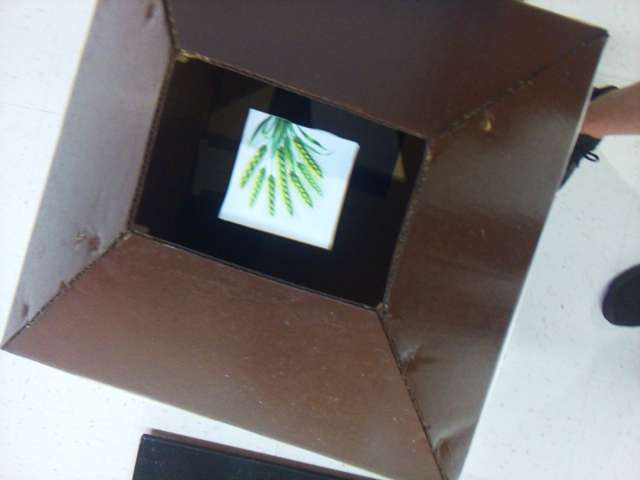wheat_barn: (220, 110, 355, 247)
